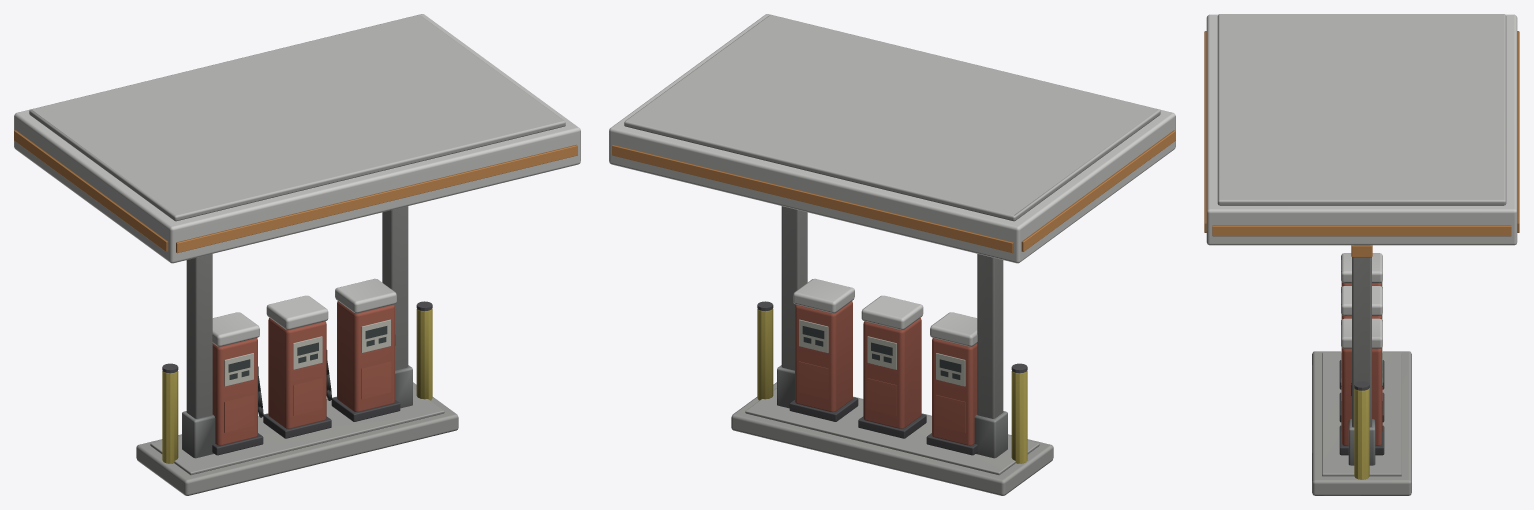
The model's file is gas_canopy.glb.
3 renders of one model, left to right at view 1: azimuth 30°, elevation 25°; view 2: azimuth 150°, elevation 25°; view 3: azimuth 270°, elevation 25°, orthographic.
Visible parts, largest first — view 1: model; view 2: model; view 3: model.
Boxes of the visible parts, box(x1,y1,x2,y2) form: model: box(14, 14, 580, 495); model: box(609, 14, 1175, 495); model: box(1204, 14, 1519, 495).
Bounding box in the file's own units: 4.24 × 3.23 × 2.84.
